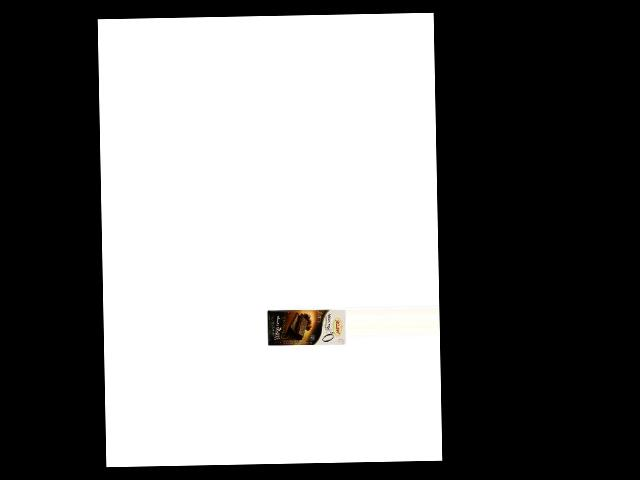chocolate: (266, 307, 345, 348)
